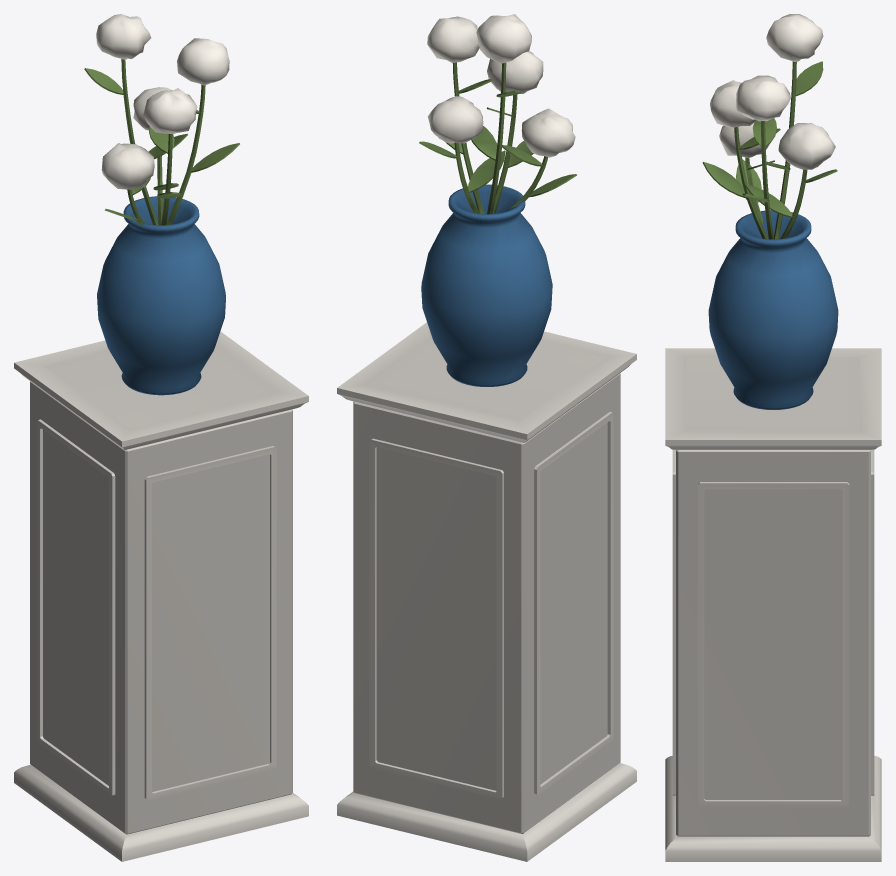
The model's file is vasePedestal.glb.
3 renders of one model, left to right at view 1: azimuth 30°, elevation 25°; view 2: azimuth 150°, elevation 25°; view 3: azimuth 270°, elevation 25°, orthographic.
Visible parts, largest first — view 1: vasePedestal; view 2: vasePedestal; view 3: vasePedestal.
Part boxes in pixels (x1,y1,x2,y2): vasePedestal: (14,14,308,861); vasePedestal: (337,14,636,861); vasePedestal: (665,14,881,861).
Bounding box in the file's own units: 0.4 × 1.6 × 0.4.
